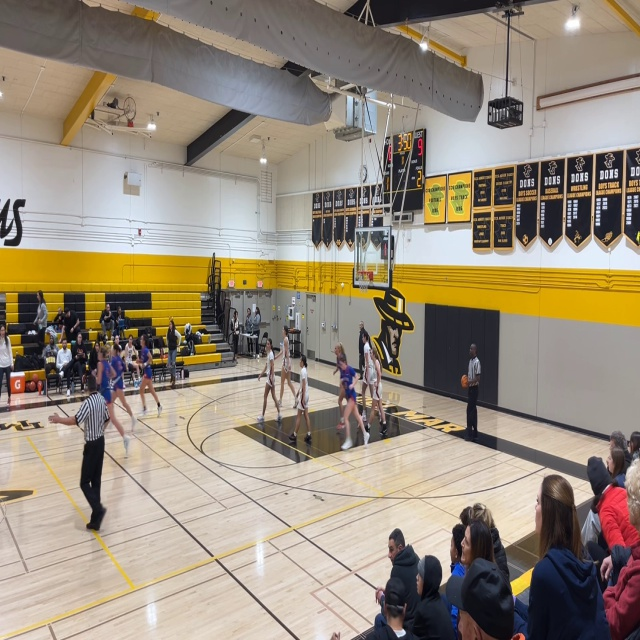Basketball: (461, 374, 468, 388)
